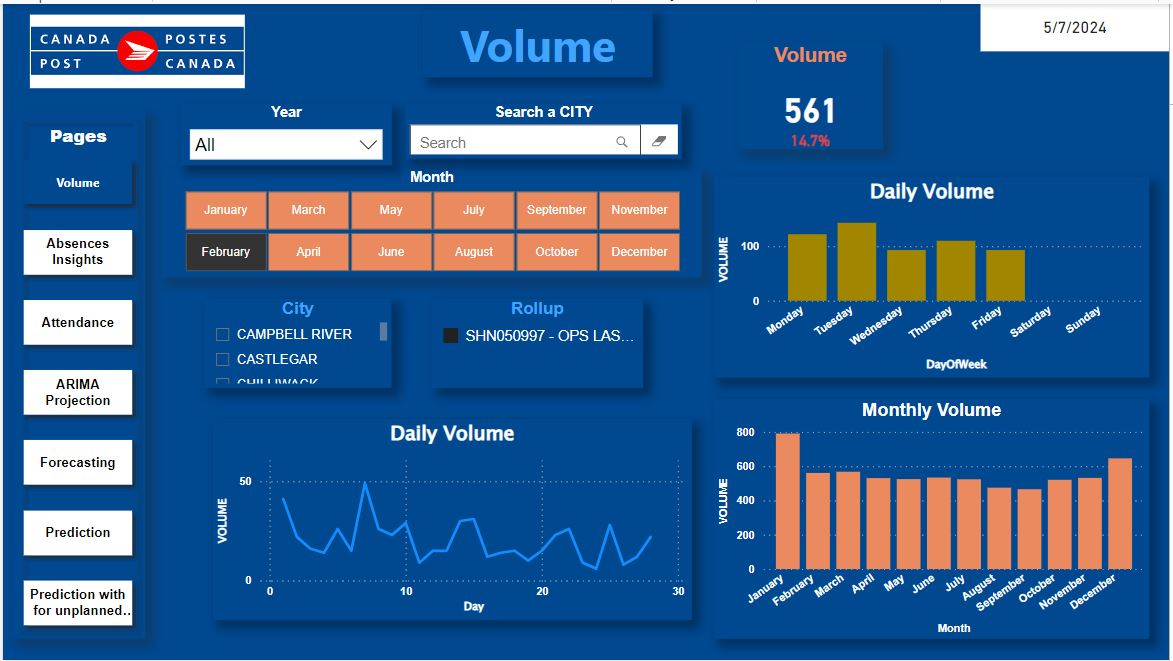

Layout of this report page (visuals, bound fields, positions):
{"tool":"powerbi","page":{"name":"Volume","canvas":[1280,720],"ordinal":0},"visuals":[{"type":"slicer","title":"City","fields":{"Values":["Location.PCR_CC_CITY"]},"box":[220.9,323.8,205.8,97.4],"z":0},{"type":"slicer","title":"Rollup","fields":{"Values":["Location.PCR_CC_ROLLUP"]},"box":[470.7,323.8,231.9,97.4],"z":1000},{"type":"image","box":[24.9,6.6,246,90.5],"z":2000},{"type":"textbox","box":[460.5,6.6,252.3,73.8],"z":3000},{"type":"slicer","title":"Month","fields":{"Values":["Date.CALENDAR_DATE.Variation.Date Hierarchy.Month"]},"box":[174.3,181.1,592.8,119.4],"z":4000},{"type":"clusteredColumnChart","title":"Monthly Volume","fields":{"Category":["Date.CALENDAR_DATE.Variation.Date Hierarchy.Month"],"Y":["Sum(Canada Post.ACTUAL_VOLUME)"]},"box":[780.8,433.6,477.5,263.5],"z":5000},{"type":"slicer","title":"Year","fields":{"Values":["Date.CALENDAR_DATE.Variation.Date Hierarchy.Year"]},"box":[194.9,109.8,231.9,67.2],"z":6000},{"type":"textFilter25A4896A83E0487089E2B90C9AE57C8A","title":"Search a CITY","fields":{"field":["Location.PCR_CC_CITY"]},"box":[441.9,109.8,303.3,60.4],"z":7000},{"type":"card","title":"Volume","fields":{"Values":["Sum(Canada Post.ACTUAL_VOLUME)"]},"box":[806.9,42.5,159.2,116.6],"z":8000,"group":"g1"},{"type":"clusteredColumnChart","title":"Daily Volume","fields":{"Category":["Date.DayOfWeek"],"Y":["Sum(Canada Post.ACTUAL_VOLUME)"]},"box":[780.8,189.5,478,221],"z":8000},{"type":"card","fields":{"Values":["Date.TodayDate"]},"box":[1073.1,0,207.2,52.1],"z":9000},{"type":"actionButton","box":[10,116.3,146.4,579.9],"z":10000},{"type":"pageNavigator","title":"Pages","box":[14.4,130.6,137.8,561.2],"z":11000},{"type":"group","id":"g1","title":"Group 1","box":[806.9,42.5,159.2,133.1],"z":12000},{"type":"lineChart","title":"Daily Volume","fields":{"Category":["Date.CALENDAR_DATE.Variation.Date Hierarchy.Day"],"Y":["Sum(Canada Post.ACTUAL_VOLUME)"]},"box":[230.5,455.6,525.6,220.9],"z":13000},{"type":"card","fields":{"Values":["Canada Post.YOYVolume"]},"box":[812.4,126.2,148.2,49.4],"z":13001,"group":"g1"}]}

Visuals, with their boxes in screenshot pixels (x1, y1, x2, y2), scaled from the page's 1280x720 canvas onto the 1173x661 screenshot:
"City" slicer: [left=202, top=297, right=391, bottom=387]
"Rollup" slicer: [left=431, top=297, right=644, bottom=387]
image: [left=23, top=6, right=248, bottom=89]
textbox: [left=422, top=6, right=653, bottom=74]
"Month" slicer: [left=160, top=166, right=703, bottom=276]
"Monthly Volume" clusteredColumnChart: [left=716, top=398, right=1153, bottom=640]
"Year" slicer: [left=179, top=101, right=391, bottom=162]
"Search a CITY" textFilter25A4896A83E0487089E2B90C9AE57C8A: [left=405, top=101, right=683, bottom=156]
"Volume" card: [left=739, top=39, right=885, bottom=146]
"Daily Volume" clusteredColumnChart: [left=716, top=174, right=1154, bottom=377]
card - Date.TodayDate: [left=983, top=0, right=1172, bottom=48]
actionButton: [left=9, top=107, right=143, bottom=639]
"Pages" pageNavigator: [left=13, top=120, right=139, bottom=635]
"Group 1" group: [left=739, top=39, right=885, bottom=161]
"Daily Volume" lineChart: [left=211, top=418, right=693, bottom=621]
card - Canada Post.YOYVolume: [left=744, top=116, right=880, bottom=161]
